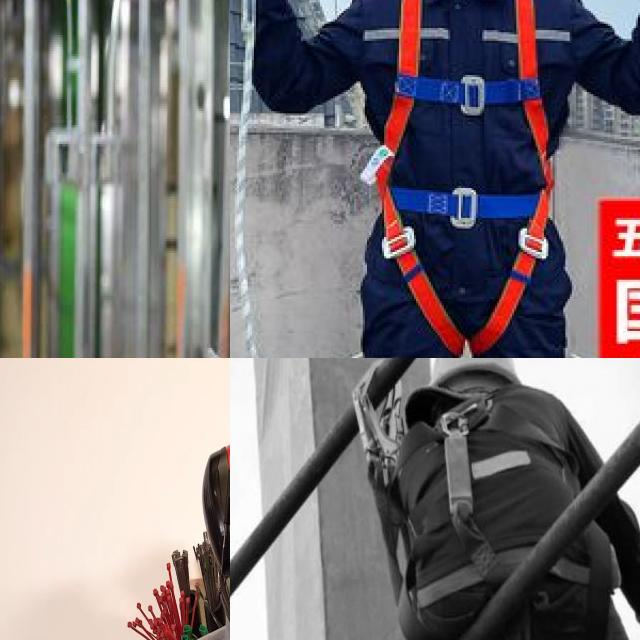Harness: (366, 0, 565, 356), (415, 407, 533, 608)
